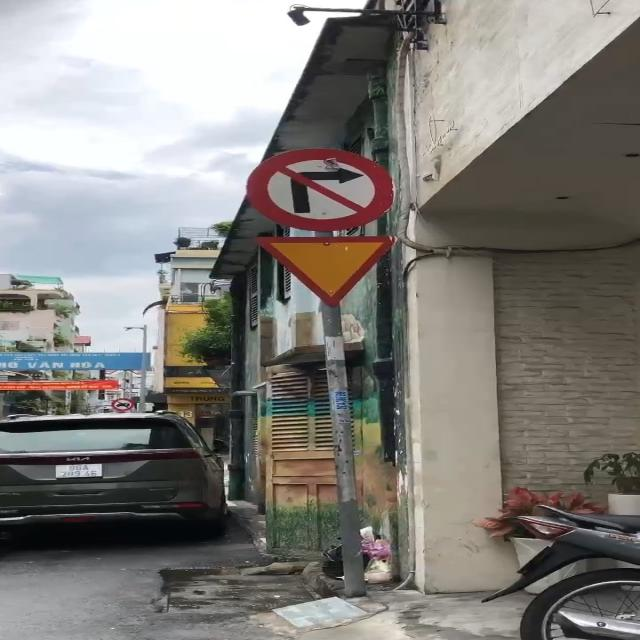Bien bao cam re phai: (240, 145, 400, 234)
Bien bao giao nhau voi duong uu tien: (241, 234, 414, 308)
